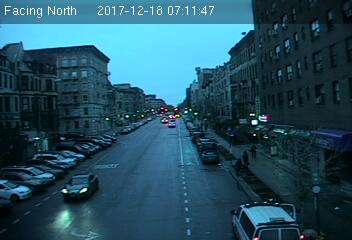car: (62, 171, 97, 199), (203, 151, 220, 165)
pedestrian: (241, 151, 250, 169), (235, 156, 242, 173), (250, 144, 257, 161)
police: (229, 197, 307, 240)
